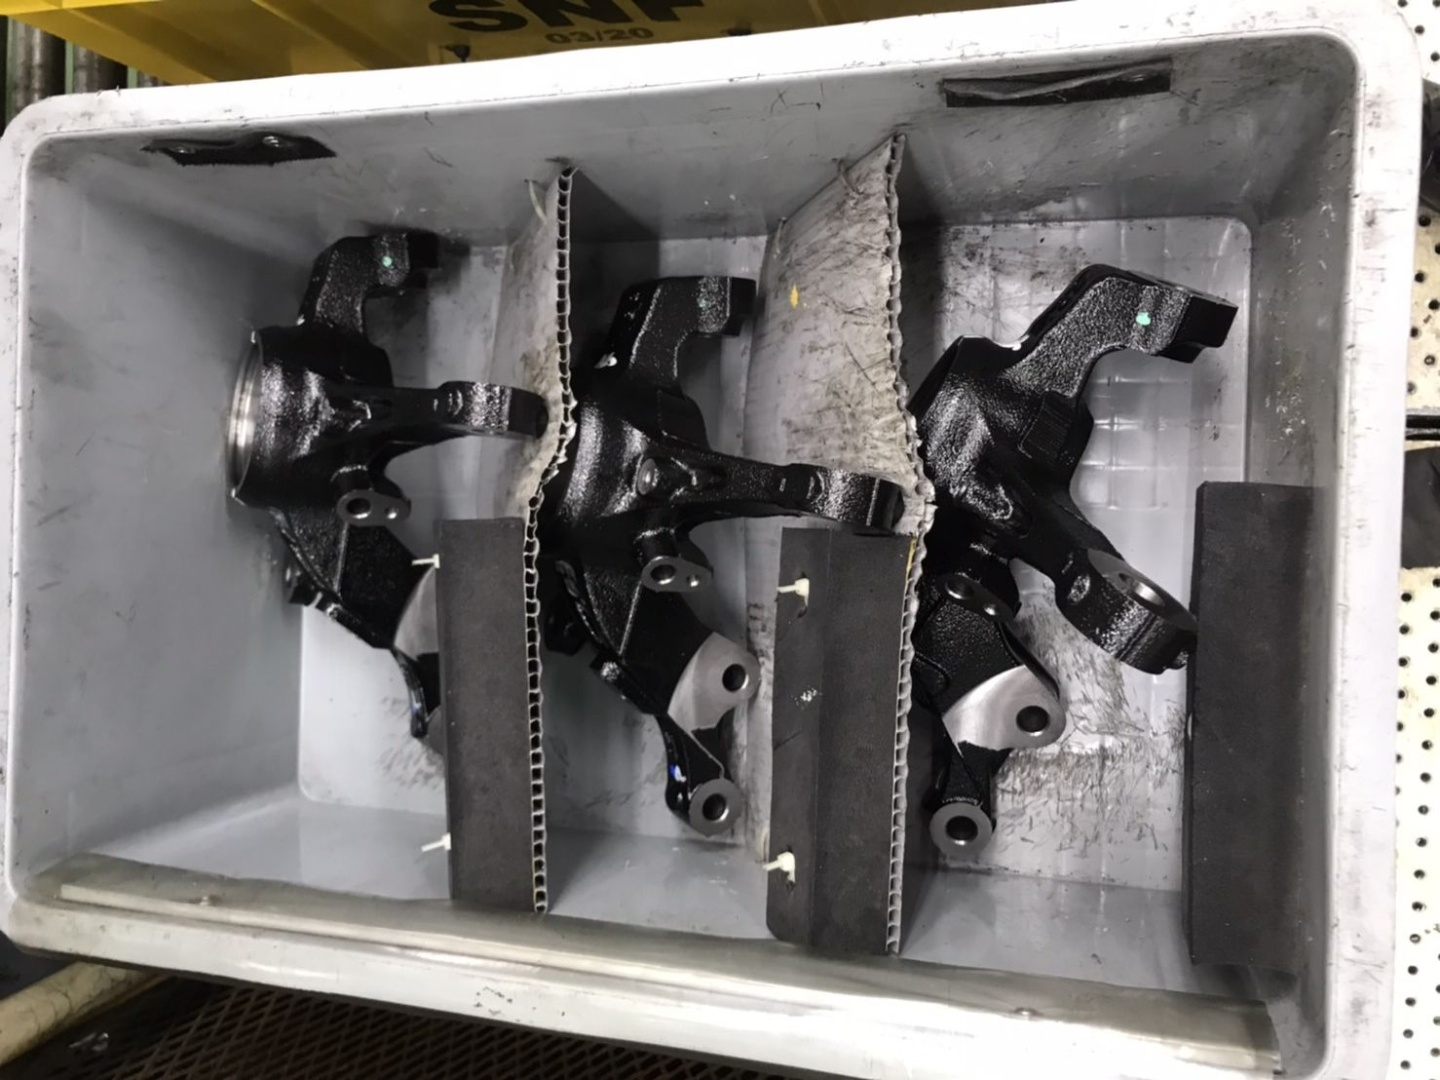abs-rh: (904, 252, 1244, 875), (558, 258, 907, 857), (215, 211, 547, 775)
